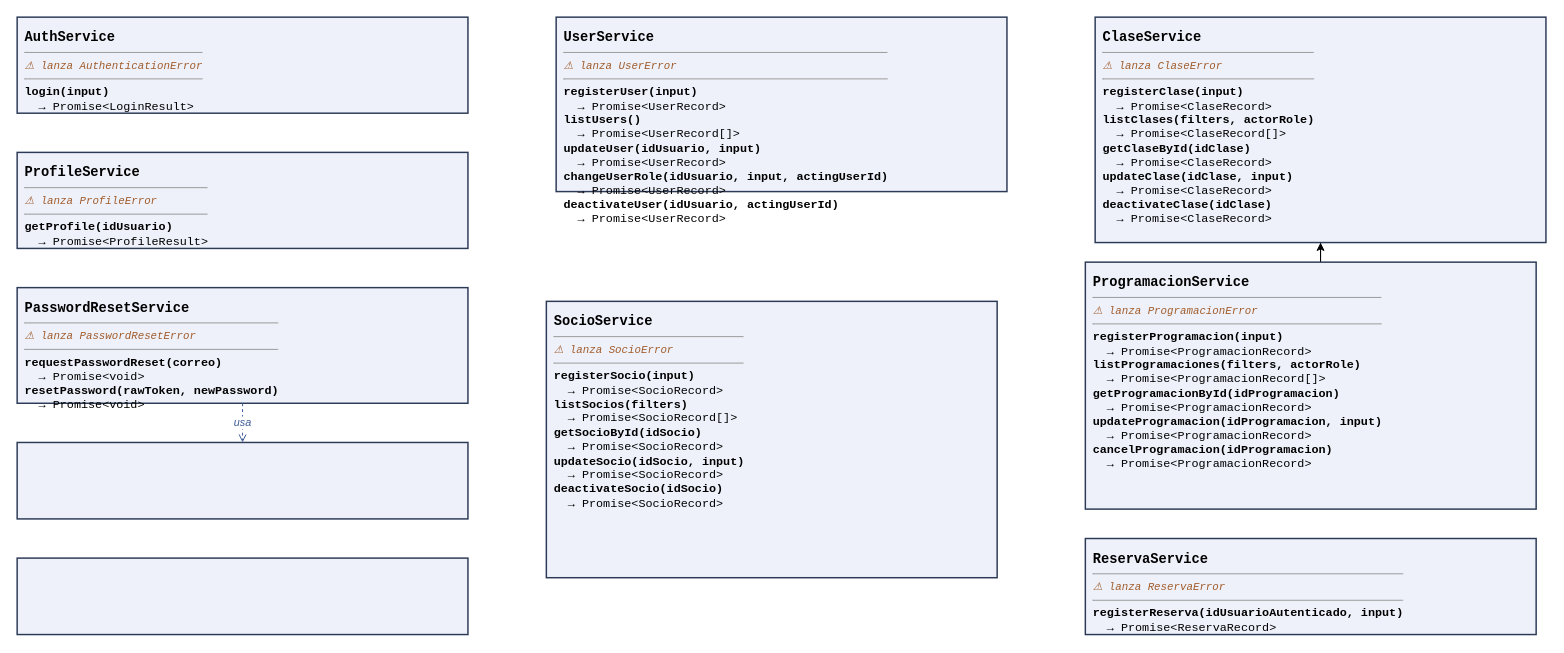
Some shapes in this 1564 by 653 pixel diagram are drawn without their labels. The shapes that lost their labels are listed below. From the top down, each one's box as (x1, y1, x2, y2) in pixels, then its label:
(16, 441, 468, 519): EmailService sendPasswordResetEmail(to, resetUrl) → Promise<void>
(16, 557, 468, 635): RoleService listRoles() → Promise<Role[]>
